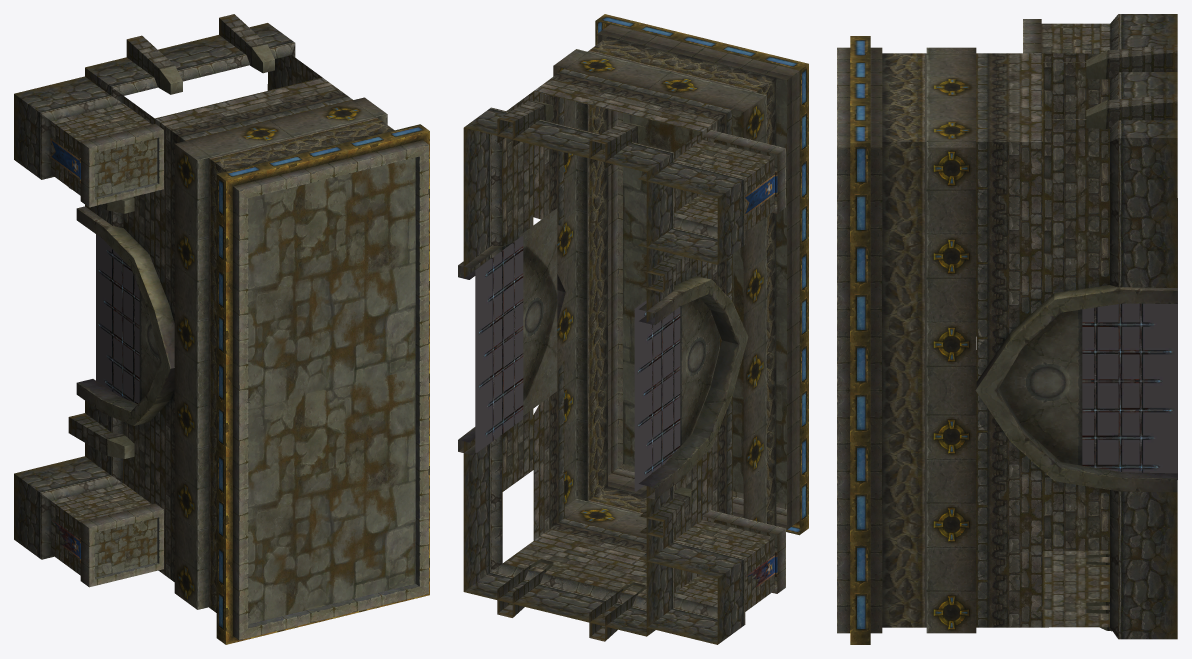
The model's file is juqing_yewai_564_zhucheng01.obj.
3 views of the same model, side by side, from view 1: azimuth 30°, elevation 25°; view 2: azimuth 150°, elevation 25°; view 3: azimuth 270°, elevation 25° (orthographic). The views are drawn at different scales.
Visible parts, largest first — view 1: juqing_yewai_564_zhucheng01; view 2: juqing_yewai_564_zhucheng01; view 3: juqing_yewai_564_zhucheng01.
Part boxes in pixels (<box>): juqing_yewai_564_zhucheng01: <box>14,14,429,644</box>; juqing_yewai_564_zhucheng01: <box>458,14,808,644</box>; juqing_yewai_564_zhucheng01: <box>837,14,1177,644</box>.
Size of the model in its own units: 1163 by 2090 by 1201.
Materials: 13 (13 with a texture image).
